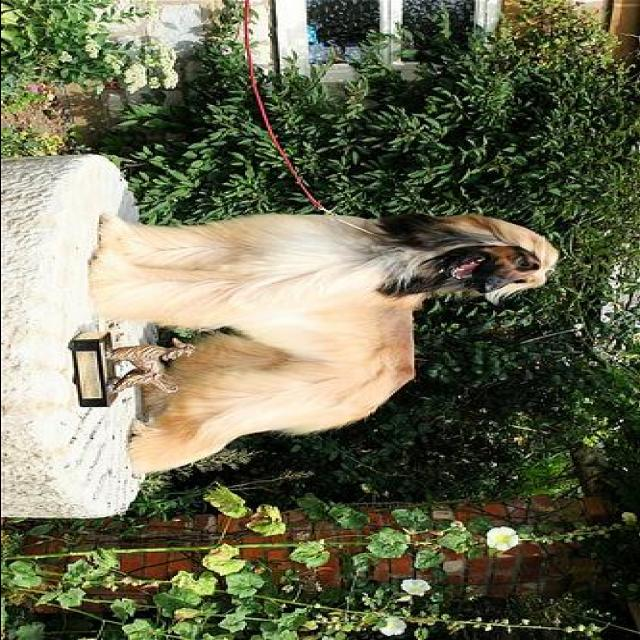afghan_hound: (85, 207, 561, 479)
